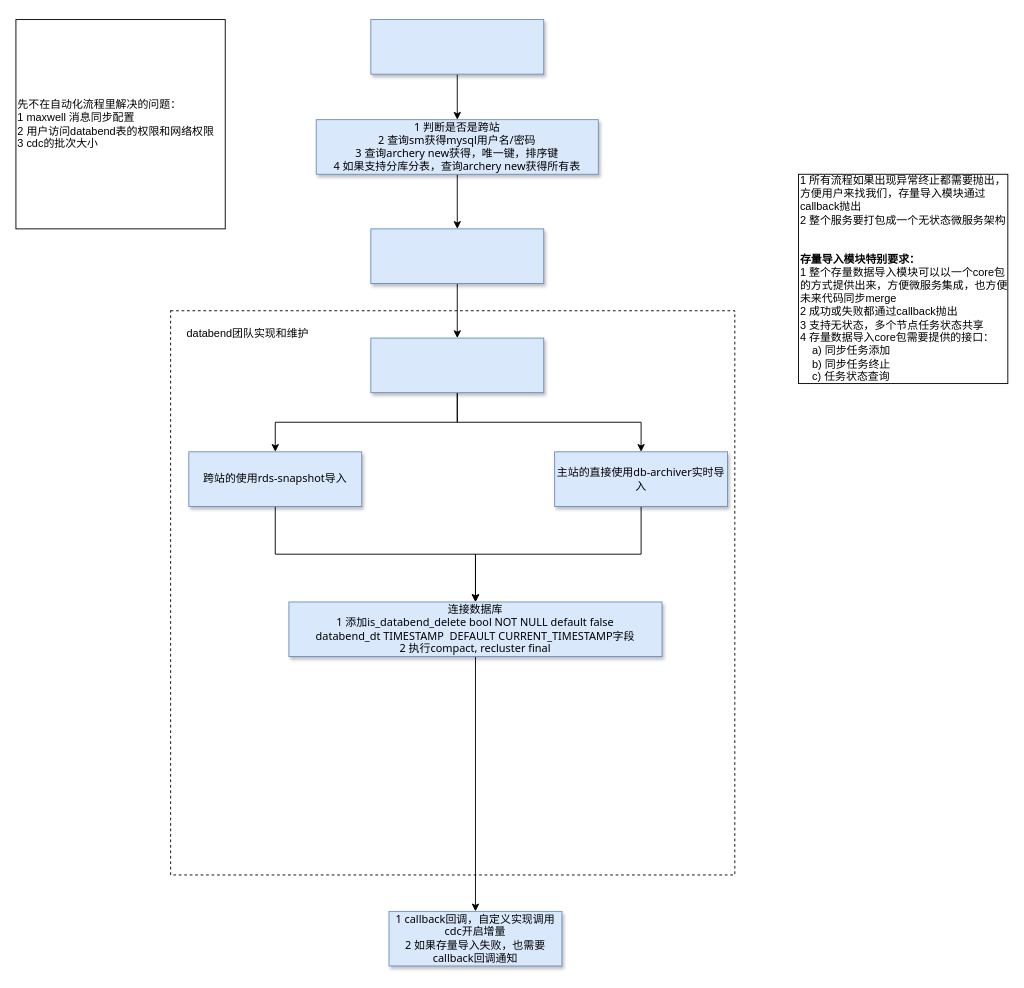
Some shapes in this 1024 by 988 pixel diagram are drawn without their labels. Here are the shapes that lost their labels. From the top down, the centre of each, then its label:
At point 457,48: "输入实例名，库名，表名，目标库名，表名(支持分库分表)".
At point 457,257: "通过http接口调用cdc创建表和创建同步任务".
At point 457,366: "存量数据导入模块".
